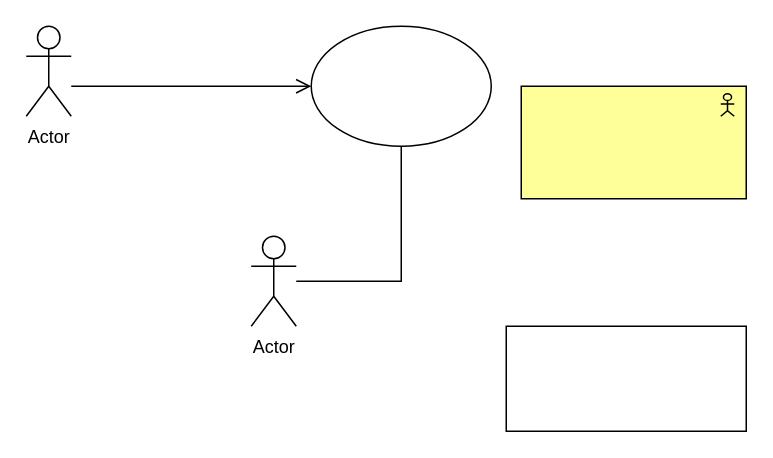
This 773x458 diagram has some shape labels left out. The centre of each missing label's shape, as x and y in pixels:
"<<actor>> Actor1" goes at (625,378).
"Business Actor" goes at (633,142).
